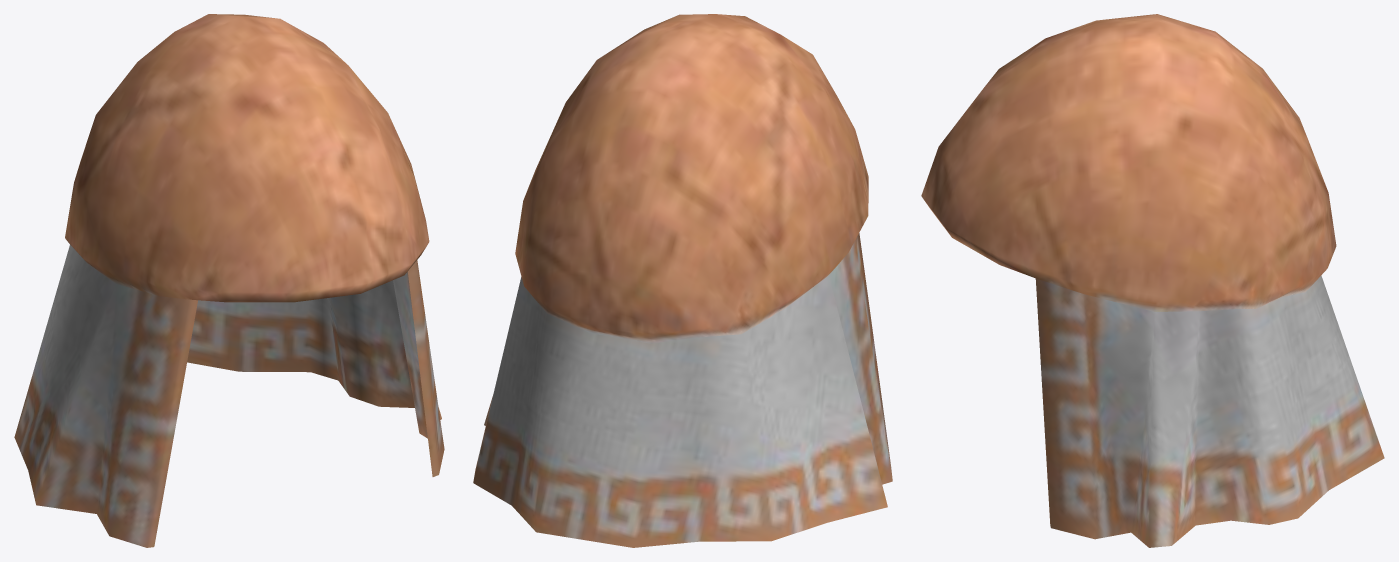
The model's file is helmet-heavyarchers.glb.
3 views of the same model, side by side, from view 1: azimuth 30°, elevation 25°; view 2: azimuth 150°, elevation 25°; view 3: azimuth 270°, elevation 25° (orthographic). The views are drawn at different scales.
Bounding box in the file's own units: 0.3355 × 0.3605 × 0.3447.
Materials: 1 (1 with a texture image).
